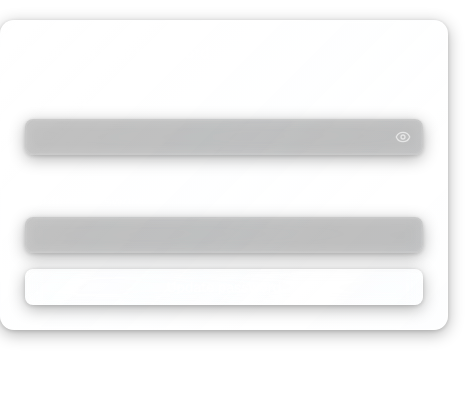
Test: ResetPasswordPage › shows the server error when the link is invalid
Type "NewPassword1" into the password field labelled "New password" at coordinates (224, 137), box [25, 119, 423, 155]
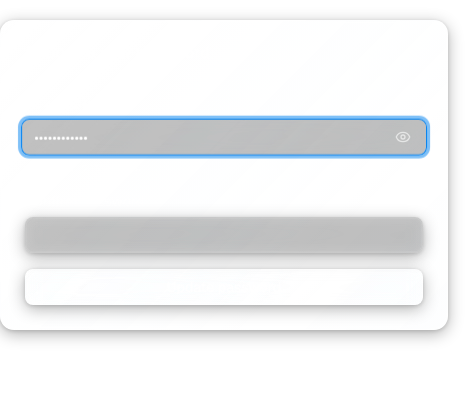
Type "NewPassword1" into the password field labelled "Confirm password" at coordinates (224, 235), box [25, 217, 423, 253]
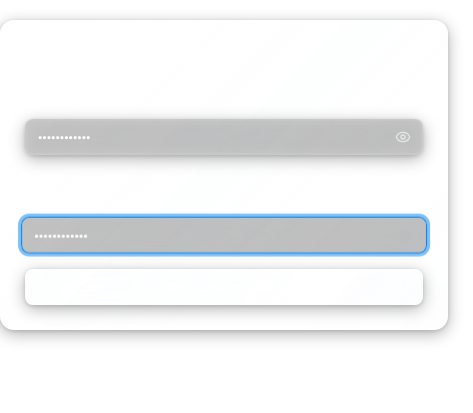
Click the button "Update password" at coordinates (224, 287), box [25, 269, 423, 305]
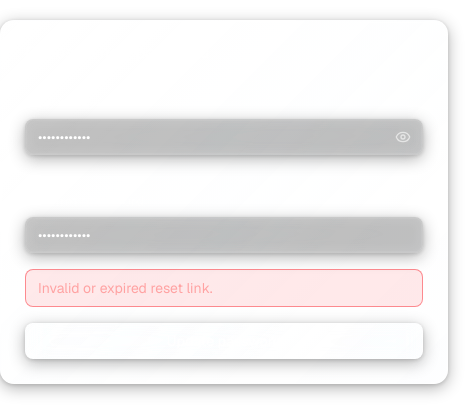
Expected: the text "Invalid or expired reset link." is shown, [25, 269, 423, 307]
